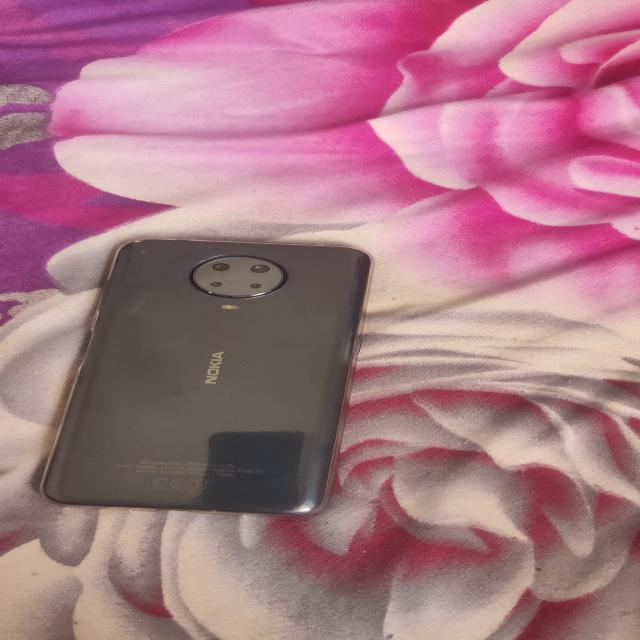Phone: (36, 234, 373, 523)
